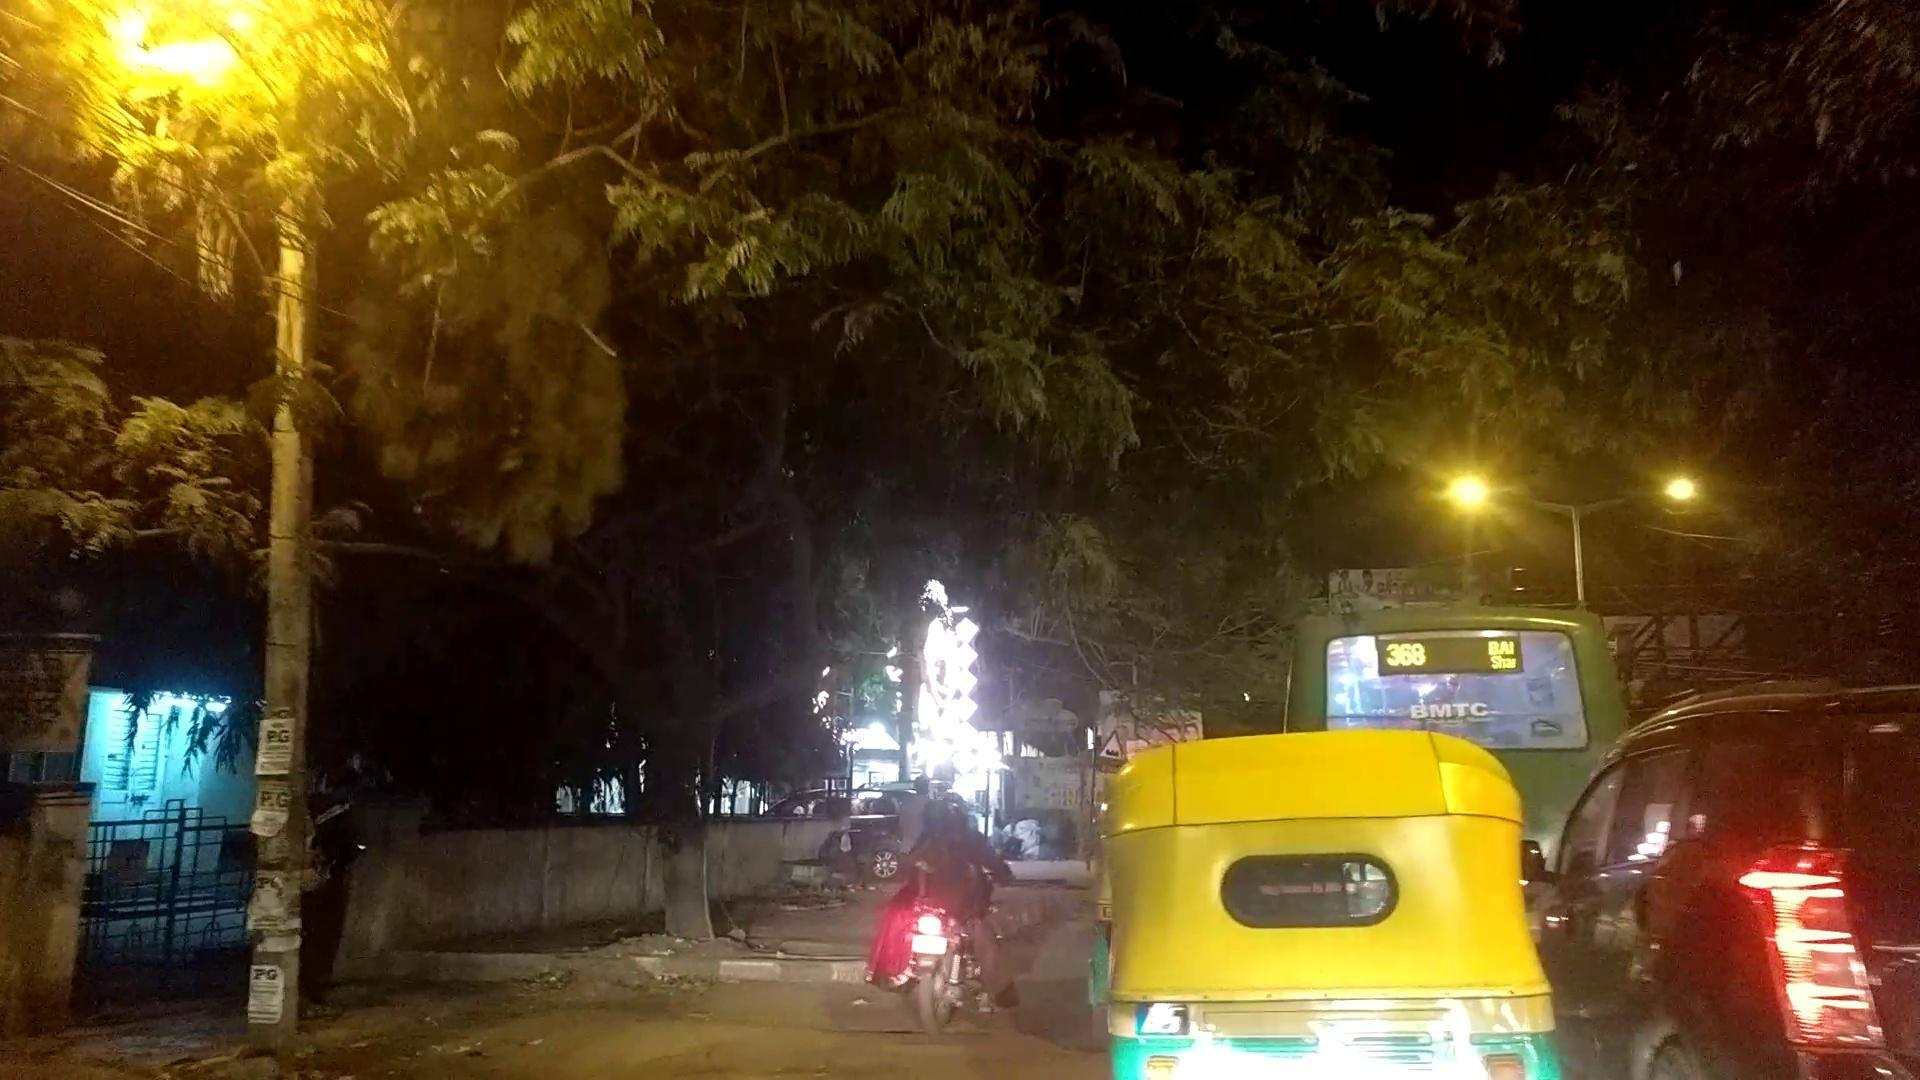on: (0, 0, 1879, 1080)
